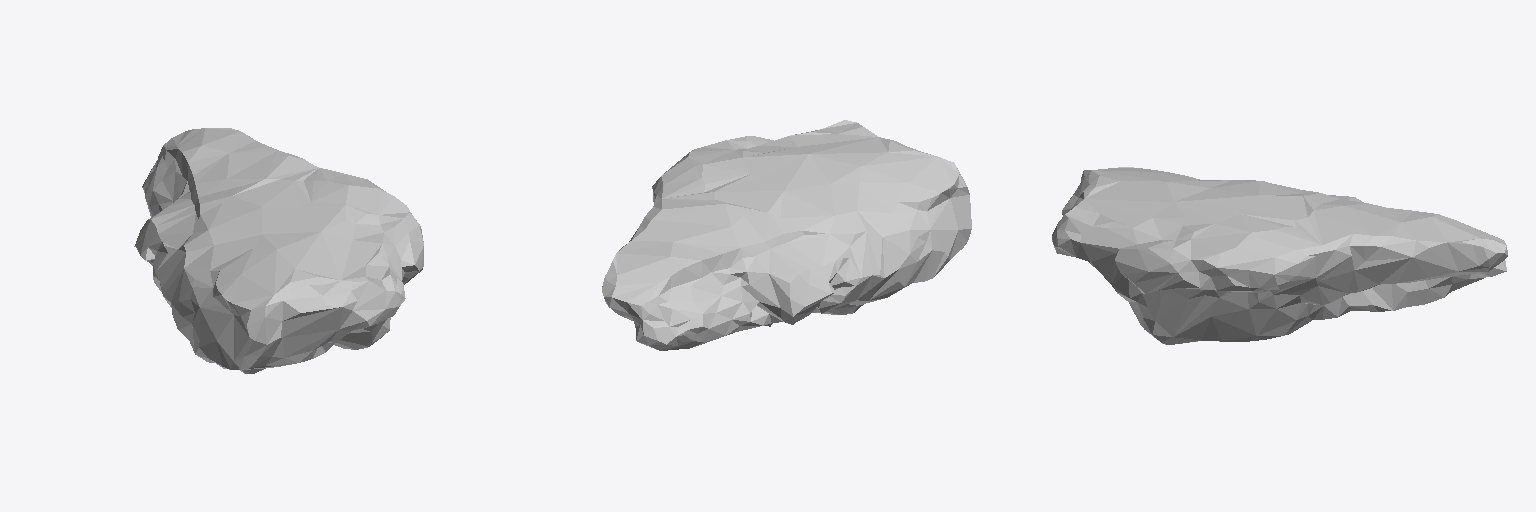
Rendered from rock.obj.
3 views of the same model, side by side, from view 1: azimuth 30°, elevation 25°; view 2: azimuth 150°, elevation 25°; view 3: azimuth 270°, elevation 25° (orthographic).
Visible parts, largest first — view 1: c5233a6c6cec48bcb40fcfc[number redacted]; view 2: c5233a6c6cec48bcb40fcfc[number redacted]; view 3: c5233a6c6cec48bcb40fcfc[number redacted].
Part boxes in pixels (x1,y1,x2,y2): c5233a6c6cec48bcb40fcfc[number redacted]: (134, 128, 423, 373); c5233a6c6cec48bcb40fcfc[number redacted]: (602, 120, 971, 350); c5233a6c6cec48bcb40fcfc[number redacted]: (1052, 167, 1507, 344).
Bounding box in the file's own units: 6.09 × 3.05 × 10.19.